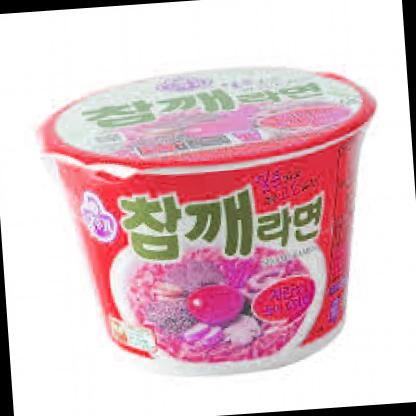Ramen: (27, 50, 400, 388)
